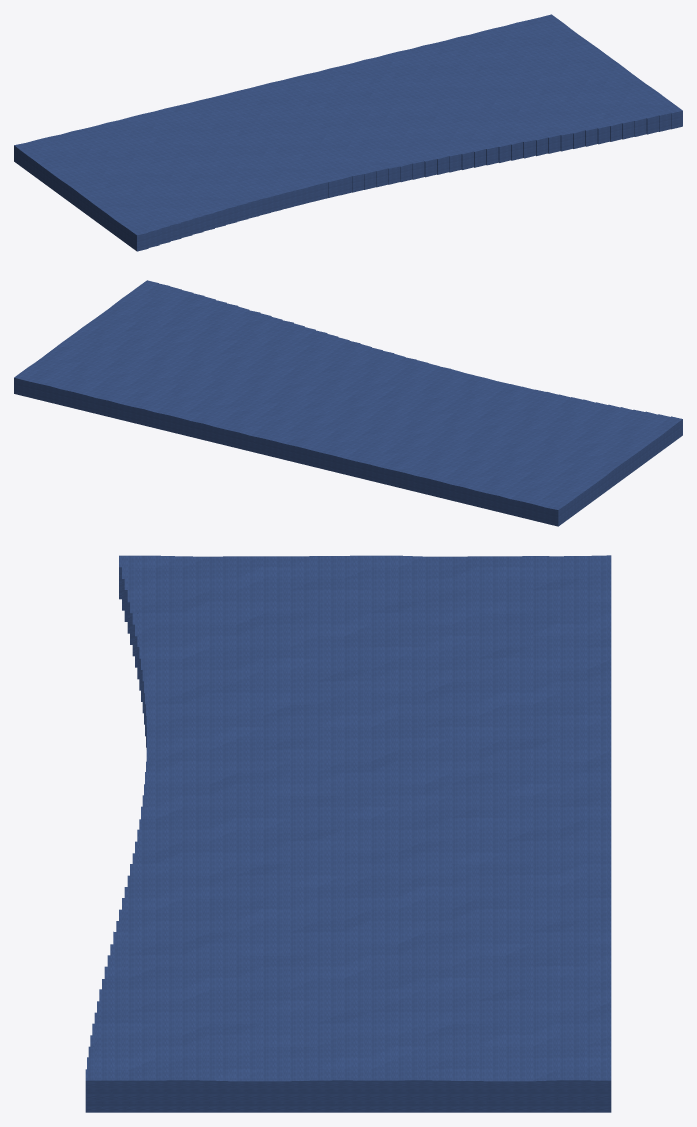
Rendered from harbour_water.fbx.
The picture shows the model from 3 angles, top to bottom: view 1: azimuth 30°, elevation 25°; view 2: azimuth 150°, elevation 25°; view 3: azimuth 270°, elevation 25°; orthographic projection. The views are drawn at different scales.
Visible parts, largest first — view 1: harbour_water; view 2: harbour_water; view 3: harbour_water.
Boxes of the visible parts, x1,y1,x2,y2 form: harbour_water: [14, 14, 682, 251]; harbour_water: [14, 280, 682, 526]; harbour_water: [85, 555, 611, 1112].
Size of the model in its own units: 9200 by 267 by 3896.
